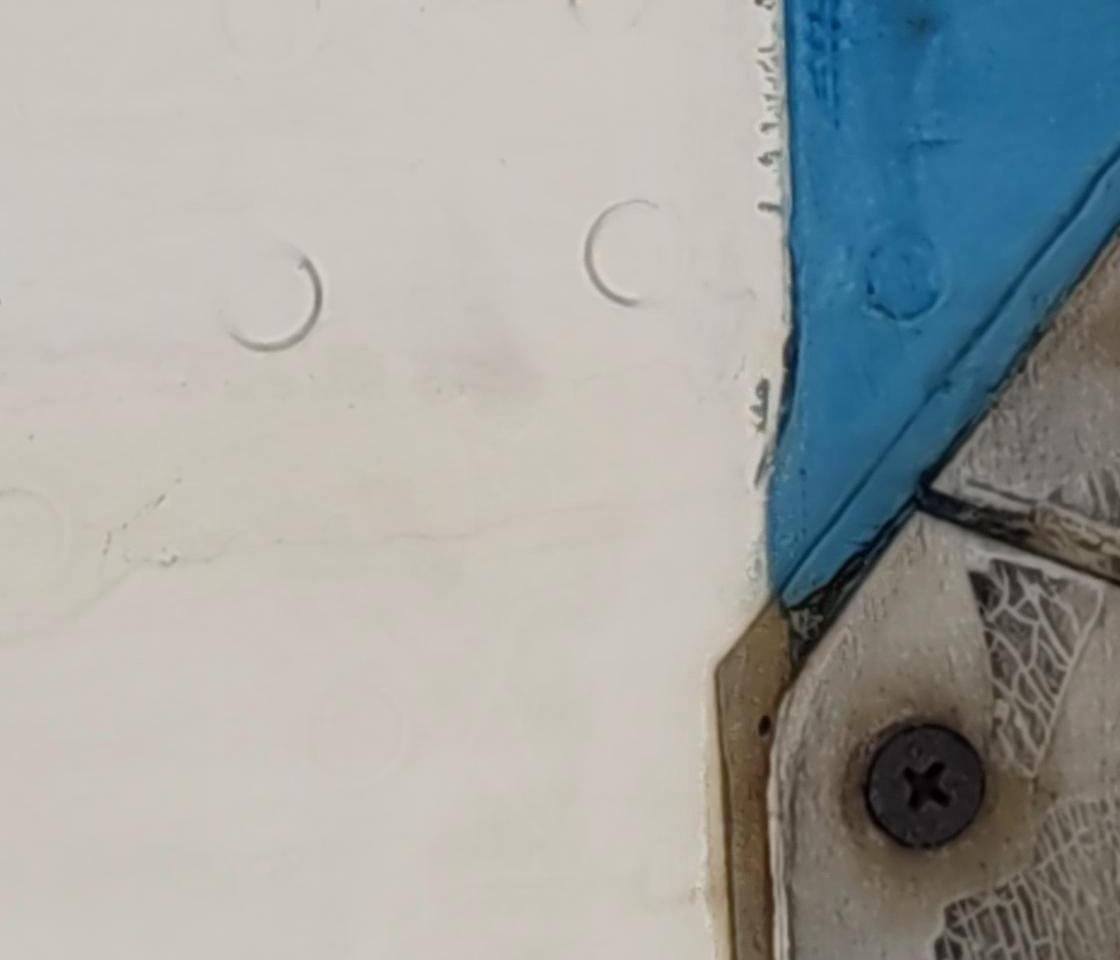rivet_damage: (850, 710, 994, 864)
